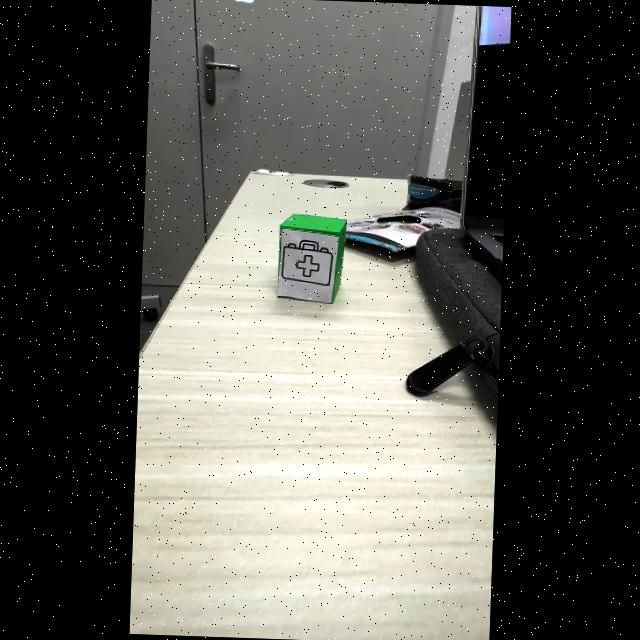Medkit: (282, 240, 332, 285)
